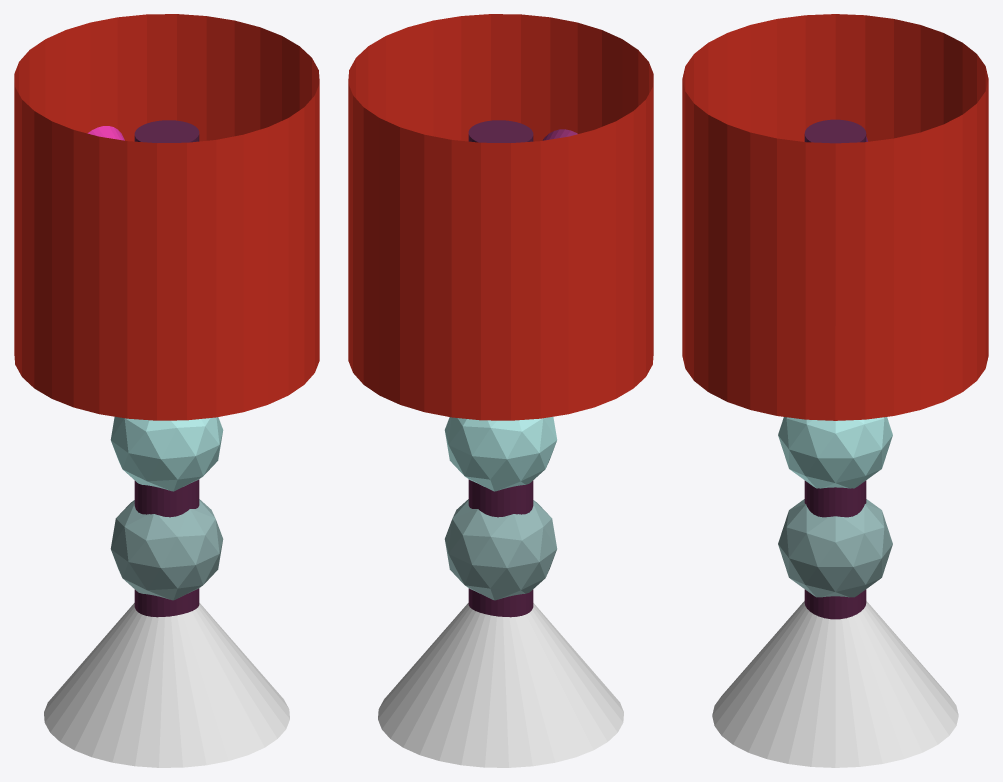
Rendered from Lamp.fbx.
3 renders of one model, left to right at view 1: azimuth 30°, elevation 25°; view 2: azimuth 150°, elevation 25°; view 3: azimuth 270°, elevation 25°, orthographic.
Parts seen in each view (by area): view 1: Cylinder, Cone, Icosphere, Icosphere.001, Cylinder.001; view 2: Cylinder, Cone, Icosphere, Icosphere.001, Cylinder.001; view 3: Cylinder, Cone, Icosphere, Icosphere.001, Cylinder.001.
Boxes of the visible parts, <box> form: Cylinder: <box>14,14,319,420</box>; Cone: <box>44,603,289,767</box>; Icosphere: <box>110,499,223,600</box>; Icosphere.001: <box>110,416,223,491</box>; Cylinder.001: <box>134,120,199,617</box>; Cylinder: <box>348,14,653,420</box>; Cone: <box>378,603,623,767</box>; Icosphere: <box>444,499,557,600</box>; Icosphere.001: <box>444,416,557,491</box>; Cylinder.001: <box>468,120,533,617</box>; Cylinder: <box>682,14,988,420</box>; Cone: <box>712,601,958,767</box>; Icosphere: <box>778,499,892,597</box>; Icosphere.001: <box>778,417,892,488</box>; Cylinder.001: <box>804,119,866,619</box>.
Bounding box in the file's own units: 200 × 459 × 200.
